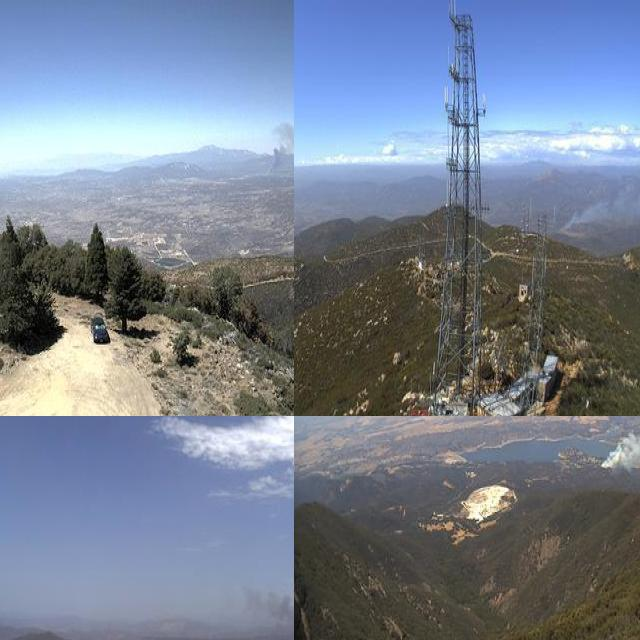smoke: (554, 176, 640, 235), (221, 572, 294, 640), (257, 116, 294, 180)
